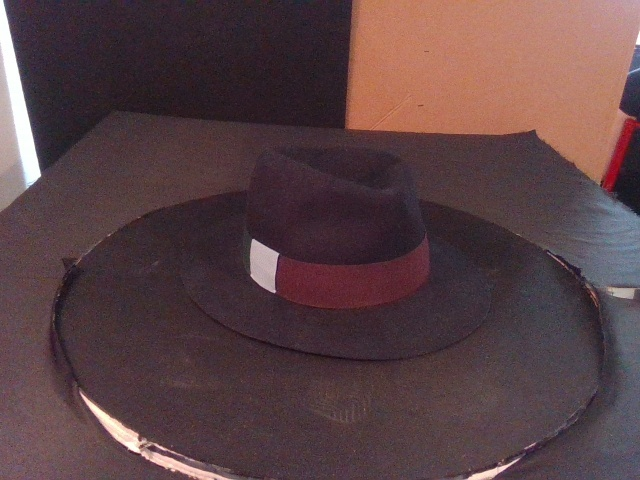hat: (181, 146, 494, 360)
